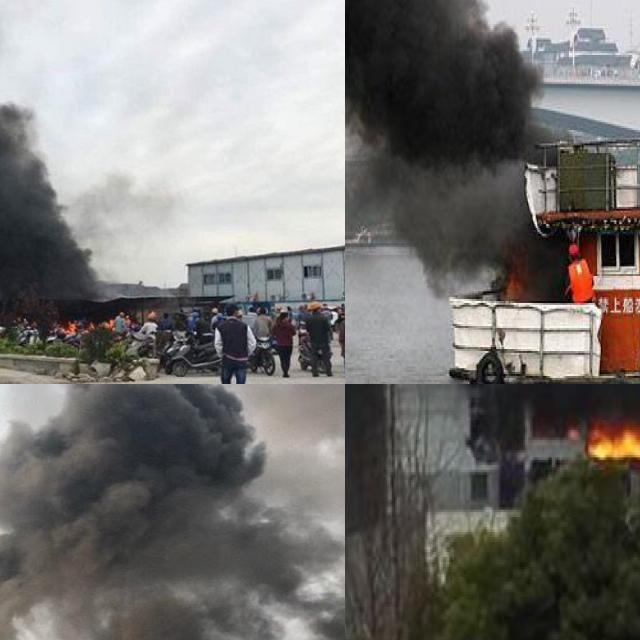fire: (582, 384, 640, 457), (57, 312, 133, 333), (564, 245, 592, 301), (502, 268, 524, 301), (58, 318, 78, 334)
smoke: (0, 384, 345, 640), (345, 0, 573, 299), (0, 0, 107, 309)
